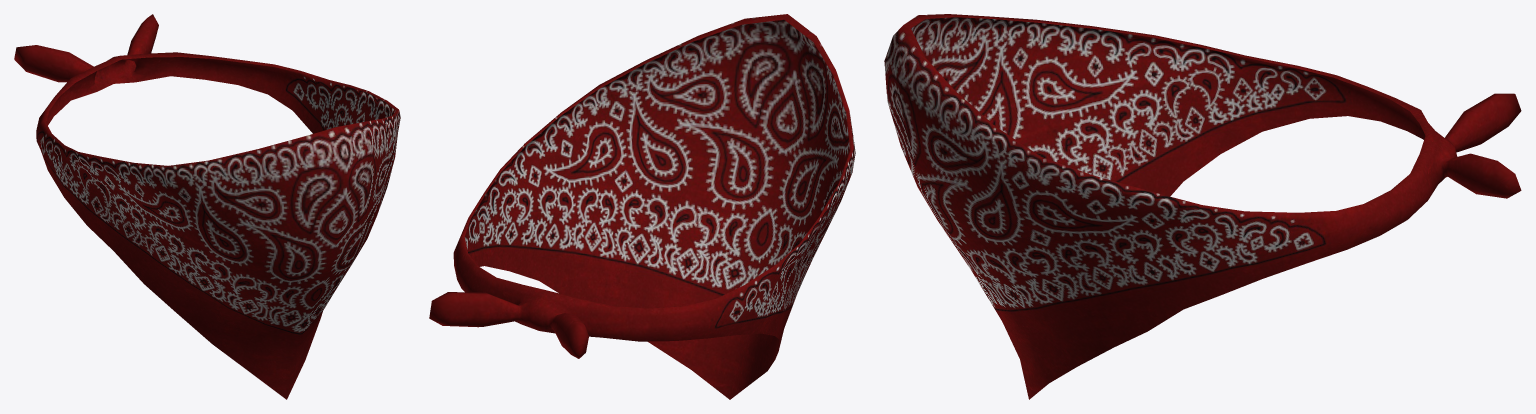
File: bandana_mask.glb
The picture shows the model from 3 angles, left to right: view 1: azimuth 30°, elevation 25°; view 2: azimuth 150°, elevation 25°; view 3: azimuth 270°, elevation 25°; orthographic projection. The views are drawn at different scales.
Visible parts, largest first — view 1: Cube.008; view 2: Cube.008; view 3: Cube.008.
Part boxes in pixels (x1,y1,x2,y2): Cube.008: [14, 14, 400, 399]; Cube.008: [429, 14, 855, 399]; Cube.008: [884, 14, 1521, 399].
Size of the model in its own units: 1.19 by 1.3 by 2.
1 material, 1 textured.
